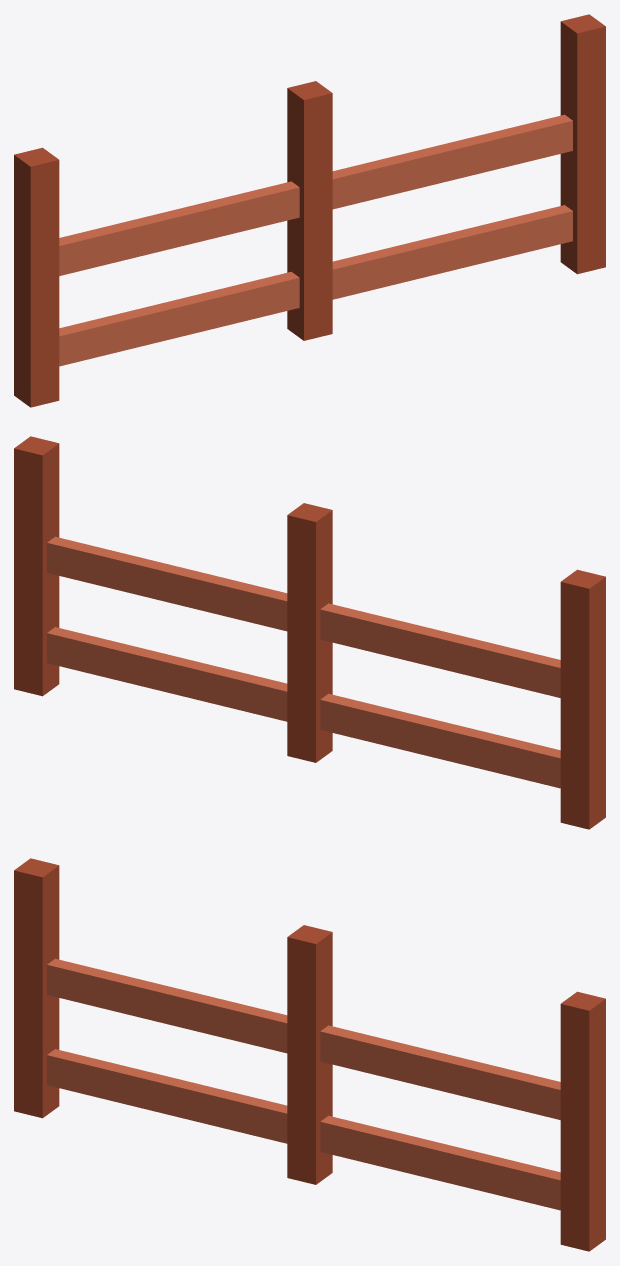
File: Fence01.glb
The picture shows the model from 3 angles, top to bottom: view 1: azimuth 30°, elevation 25°; view 2: azimuth 150°, elevation 25°; view 3: azimuth 330°, elevation 25°; orthographic projection.
Parts seen in each view (by area): view 1: fence_classicFarm; view 2: fence_classicFarm; view 3: fence_classicFarm.
Part boxes in pixels (left/top/right/bottom): fence_classicFarm: left=14, top=14, right=605, bottom=407; fence_classicFarm: left=14, top=436, right=605, bottom=829; fence_classicFarm: left=14, top=858, right=605, bottom=1251.
Bounding box in the file's own units: 1 × 0.4 × 0.05.
